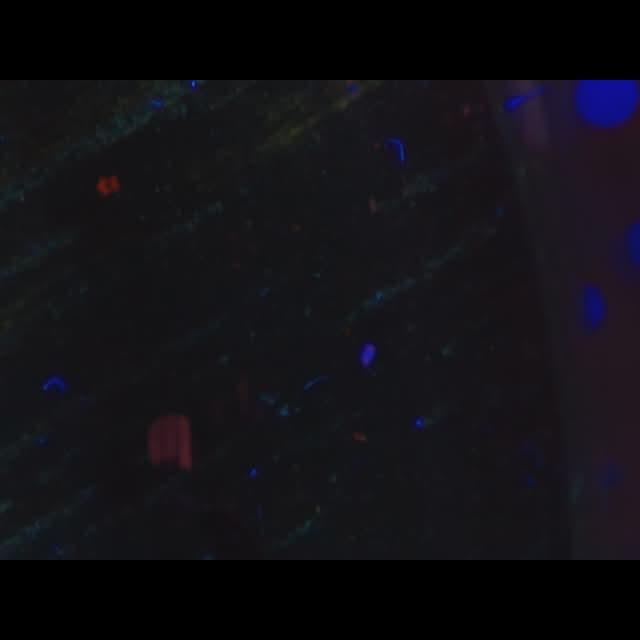Fragment: (148, 416, 190, 464)
